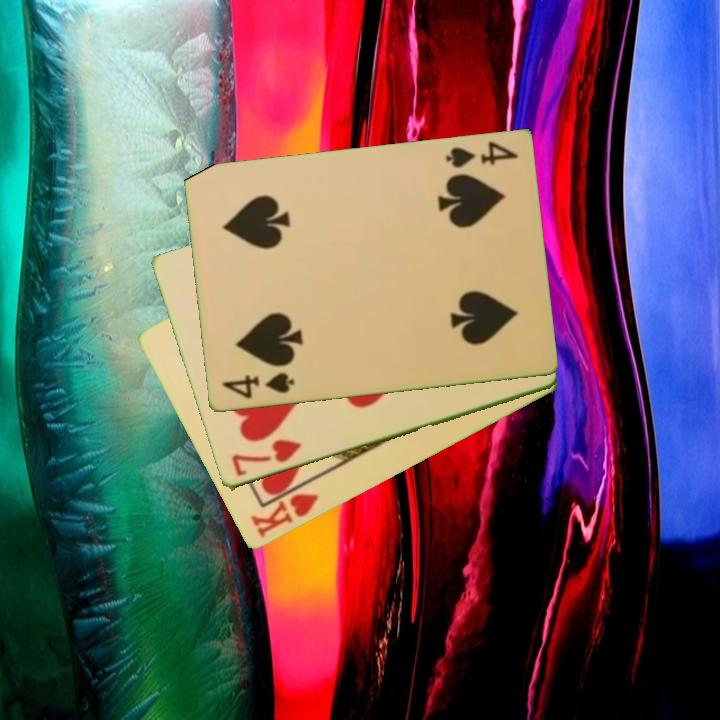4s: (442, 138, 521, 171), (218, 370, 297, 402)
7h: (228, 436, 304, 480)
Kh: (246, 477, 322, 541)
